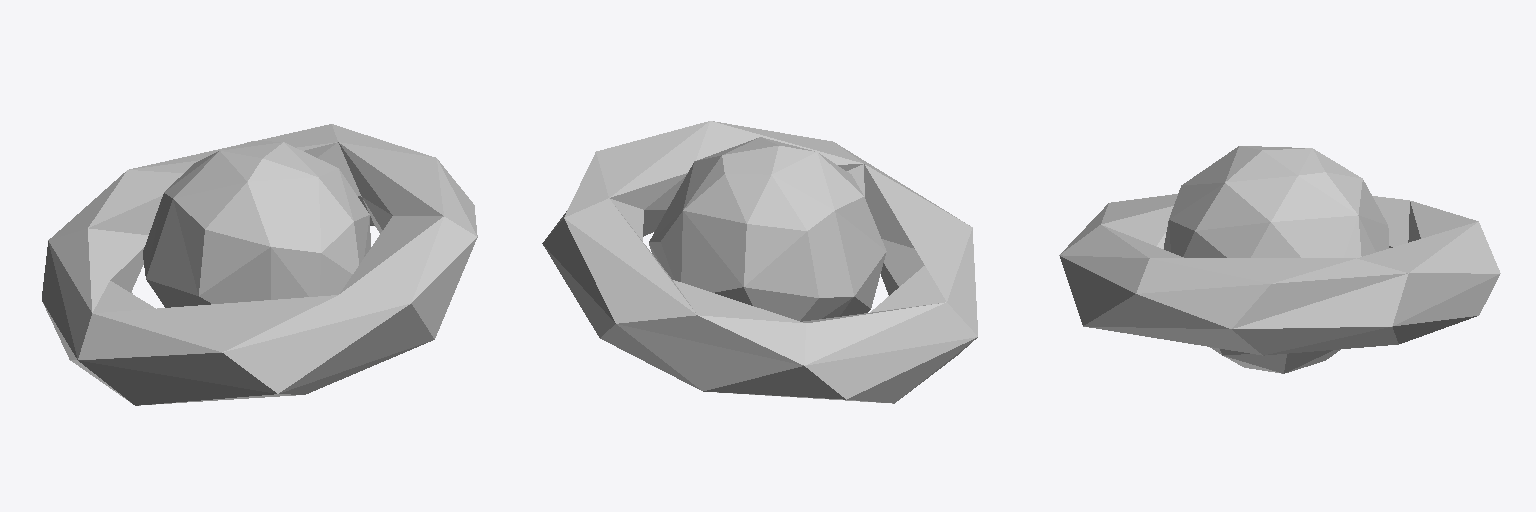
Rendered from AirSpell.obj.
3 views of the same model, side by side, from view 1: azimuth 30°, elevation 25°; view 2: azimuth 150°, elevation 25°; view 3: azimuth 270°, elevation 25° (orthographic).
Visible parts, largest first — view 1: Torus; view 2: Torus; view 3: Torus.
Boxes of the visible parts, x1=… form: Torus: x1=42, y1=124, x2=477, y2=405; Torus: x1=542, y1=121, x2=977, y2=403; Torus: x1=1059, y1=146, x2=1500, y2=373.
Size of the model in its own units: 2.52 by 1.29 by 2.48.